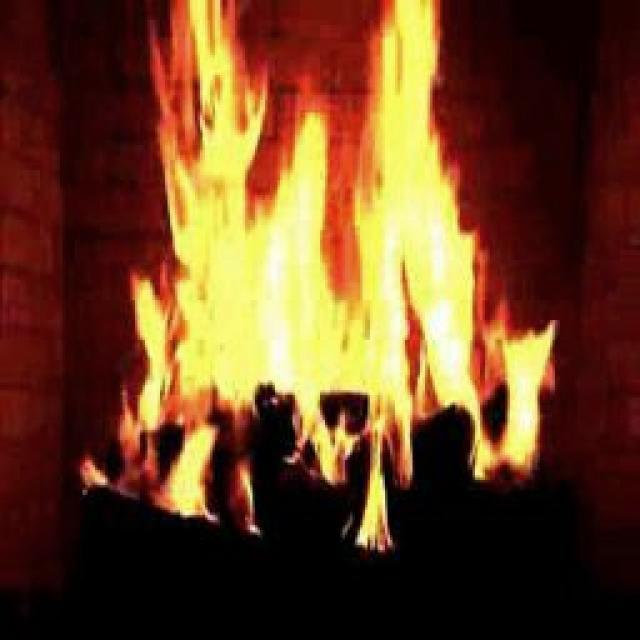Fire: (154, 44, 535, 481)
